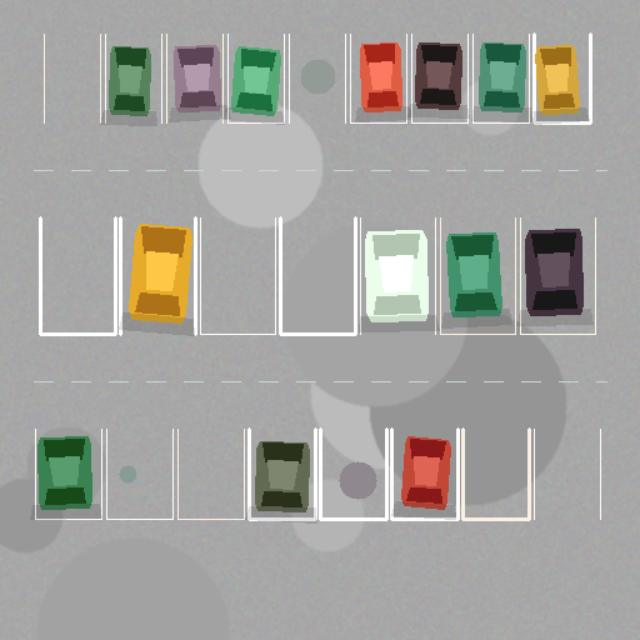space-empty: (40, 217, 115, 334), (200, 217, 275, 334), (280, 217, 355, 334), (462, 429, 529, 519), (106, 429, 172, 519), (178, 429, 244, 519), (320, 429, 386, 519), (534, 429, 600, 519), (44, 34, 100, 122), (289, 34, 345, 122)
space-occupied: (120, 217, 195, 334), (360, 217, 435, 334), (440, 217, 515, 334), (520, 217, 595, 334), (391, 429, 458, 519), (35, 429, 101, 519), (249, 429, 315, 519), (166, 34, 223, 122), (227, 34, 284, 122), (105, 34, 161, 122), (350, 34, 406, 122), (411, 34, 467, 122), (473, 34, 529, 122), (534, 34, 590, 122)
